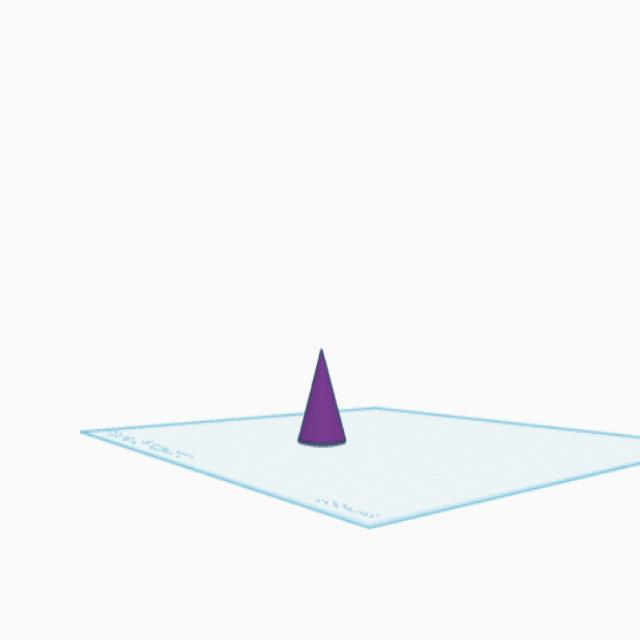cone: (295, 344, 349, 451)
